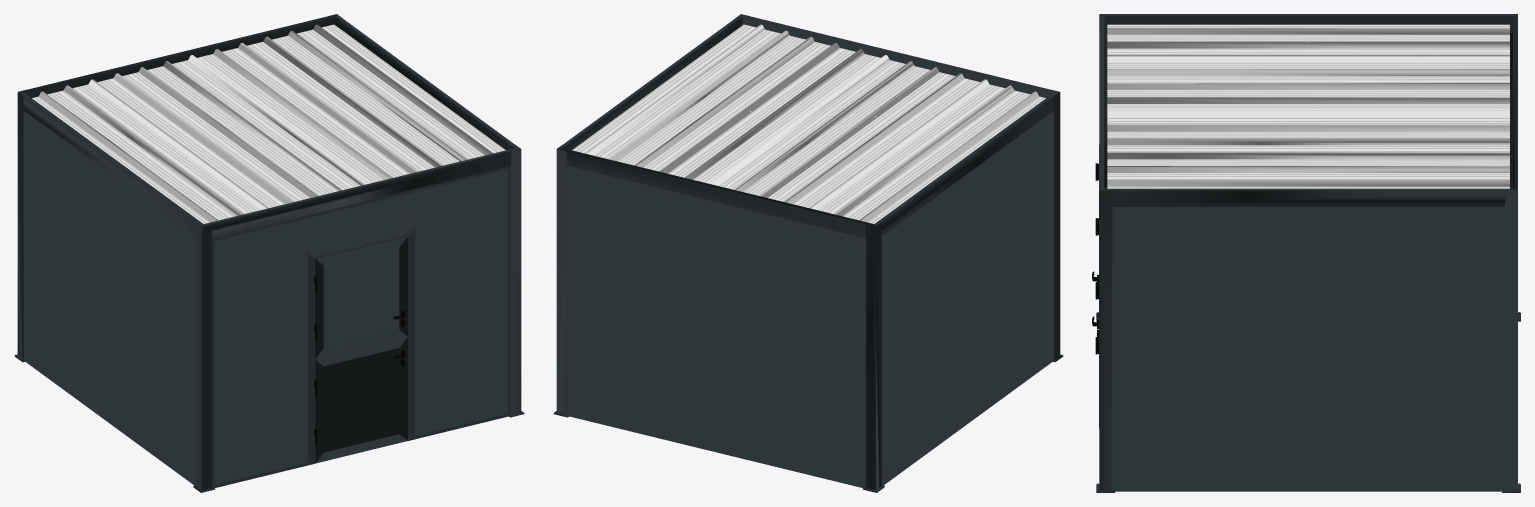
The picture shows the model from 3 angles, left to right: view 1: azimuth 30°, elevation 25°; view 2: azimuth 150°, elevation 25°; view 3: azimuth 270°, elevation 25°; orthographic projection. The views are drawn at different scales.
Parts seen in each view (by area): view 1: priximbattable_net_box_a_cheval_13444_module_carport_box_che, folhabaixo, folhacima, porta; view 2: priximbattable_net_box_a_cheval_13444_module_carport_box_che; view 3: priximbattable_net_box_a_cheval_13444_module_carport_box_che.
Part boxes in pixels (box(x1,y1,x2,y2)): priximbattable_net_box_a_cheval_13444_module_carport_box_che: box(14, 14, 524, 492); folhabaixo: box(314, 336, 407, 463); folhacima: box(314, 236, 407, 359); porta: box(307, 226, 414, 465); priximbattable_net_box_a_cheval_13444_module_carport_box_che: box(553, 14, 1063, 492); priximbattable_net_box_a_cheval_13444_module_carport_box_che: box(1096, 14, 1520, 492).
Size of the model in its own units: 324 by 254 by 328.
Materials: 1 (1 with a texture image).
